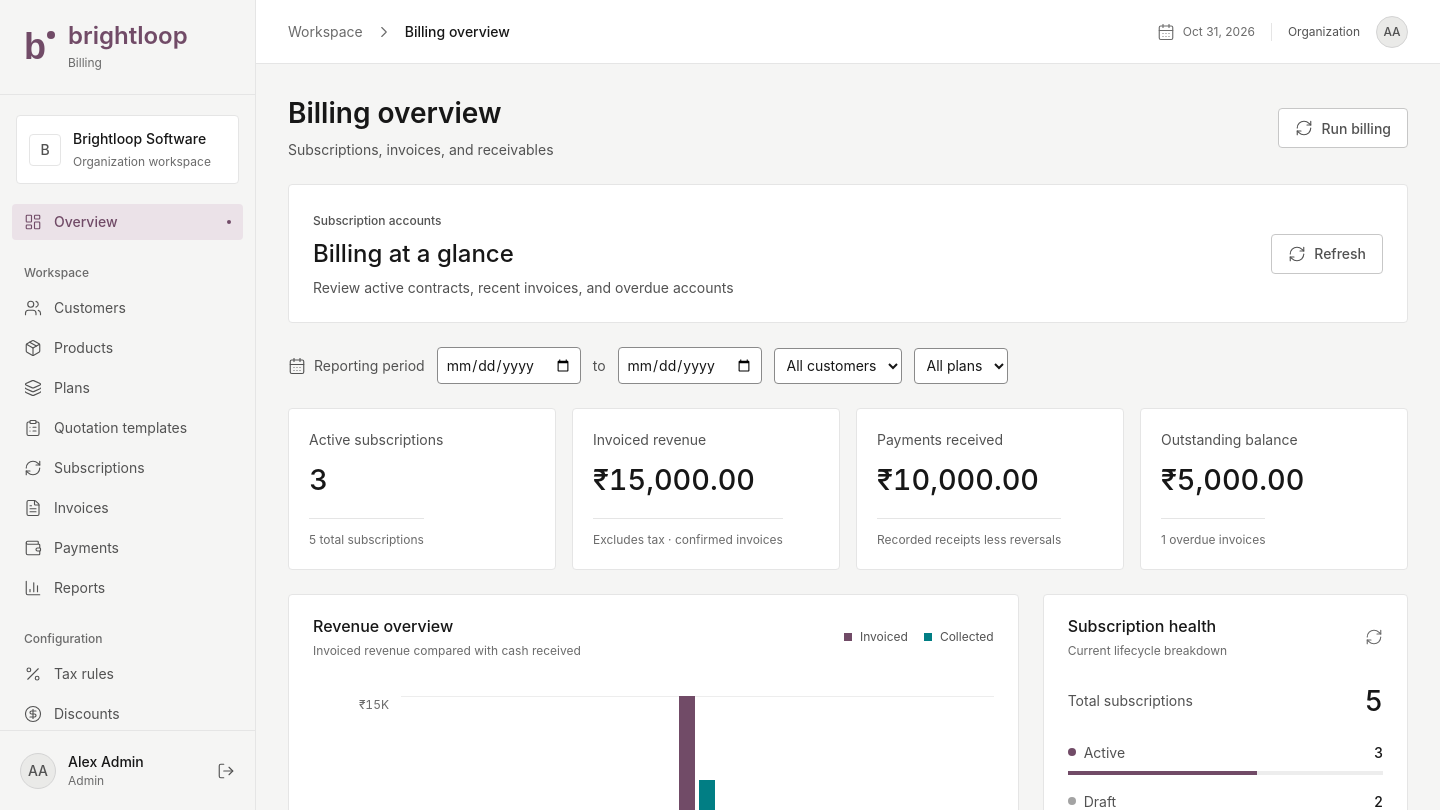
Test: workspace permissions and real mutations › does not offer email sending for a draft invoice
The image size is (1440, 810).
Step 1. Click the button "Invoices" → (128, 508), box left=12, top=490, right=243, bottom=526
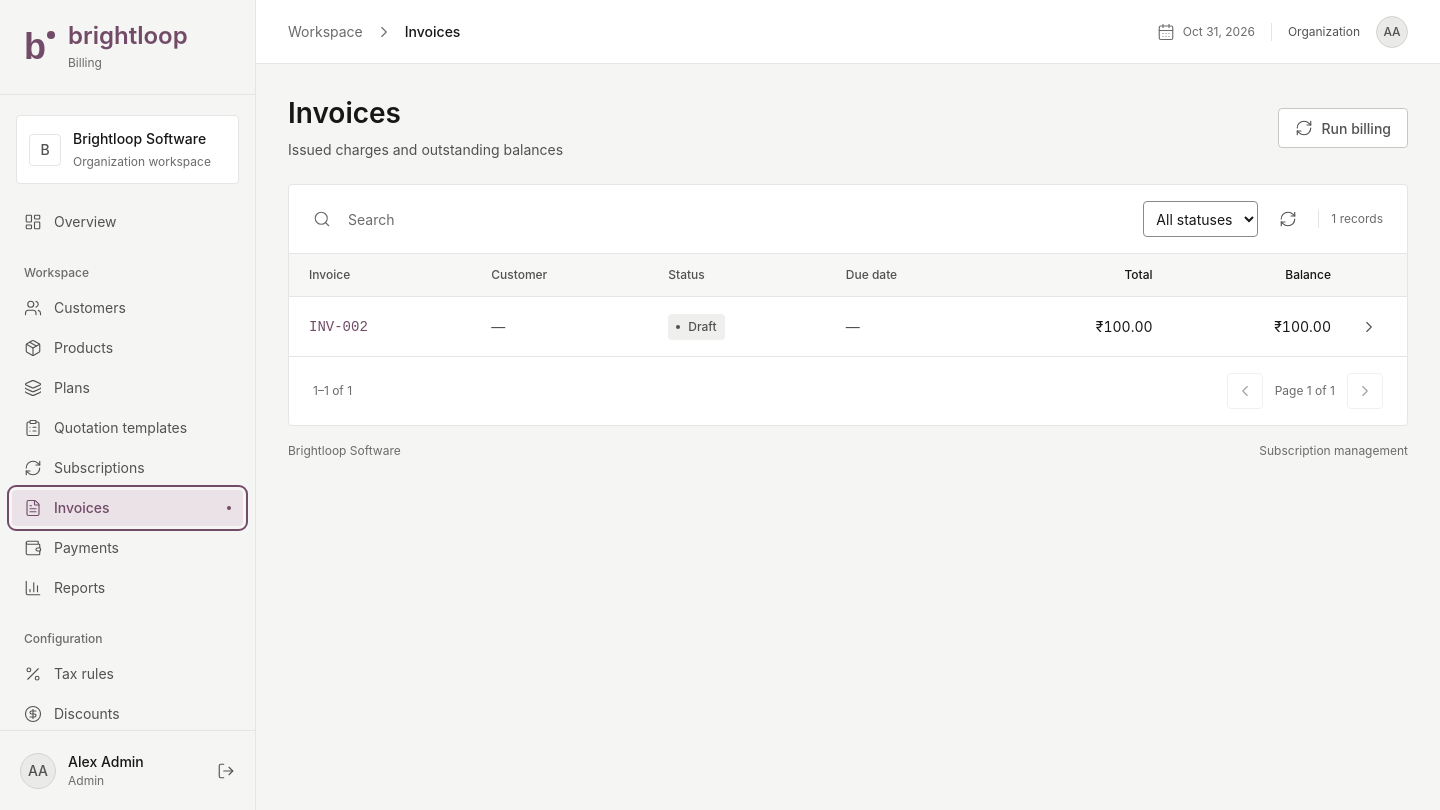
Step 2. Click the button "INV-002" → (338, 328), box left=309, top=317, right=368, bottom=338
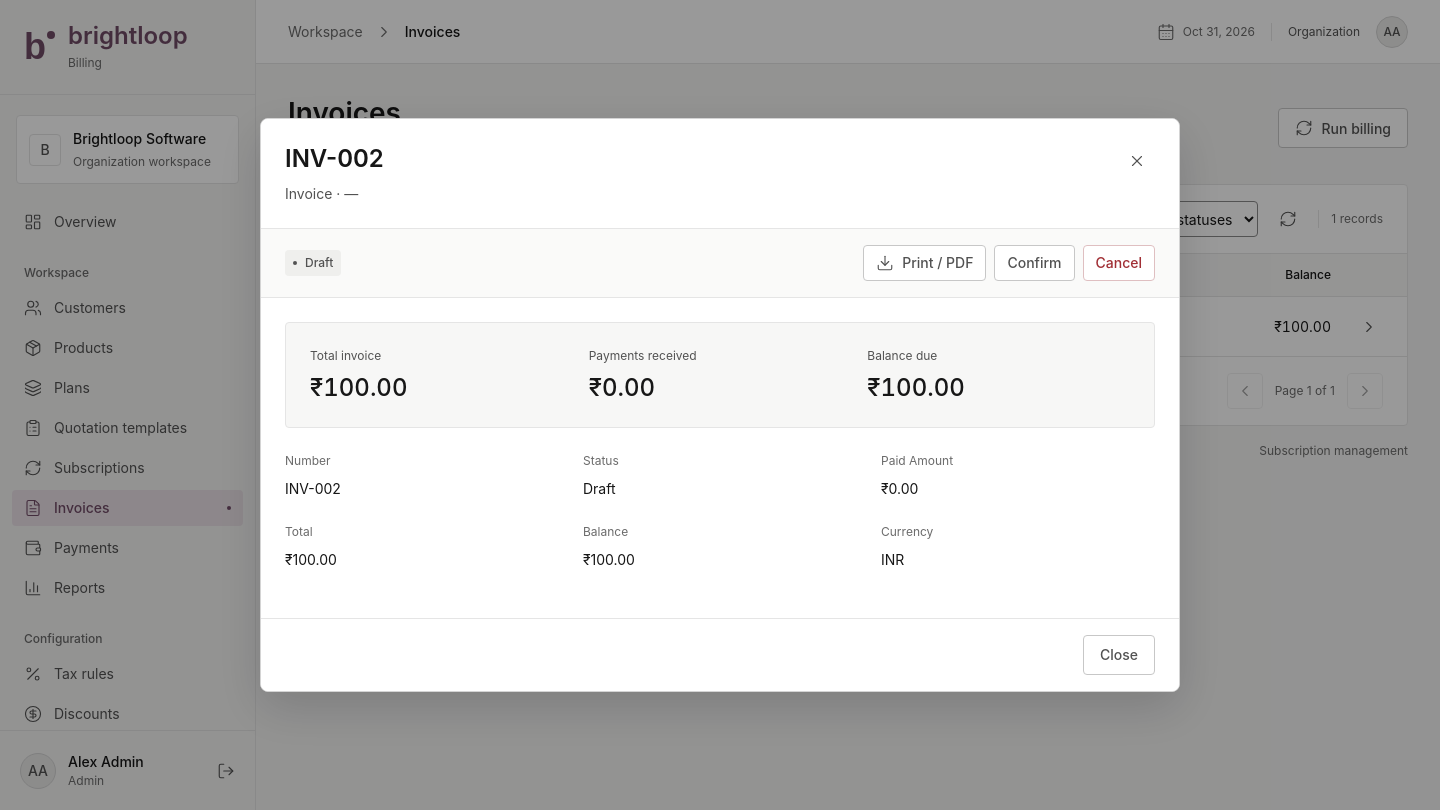
Expected: the button "Confirm" is shown, left=994, top=245, right=1075, bottom=281
